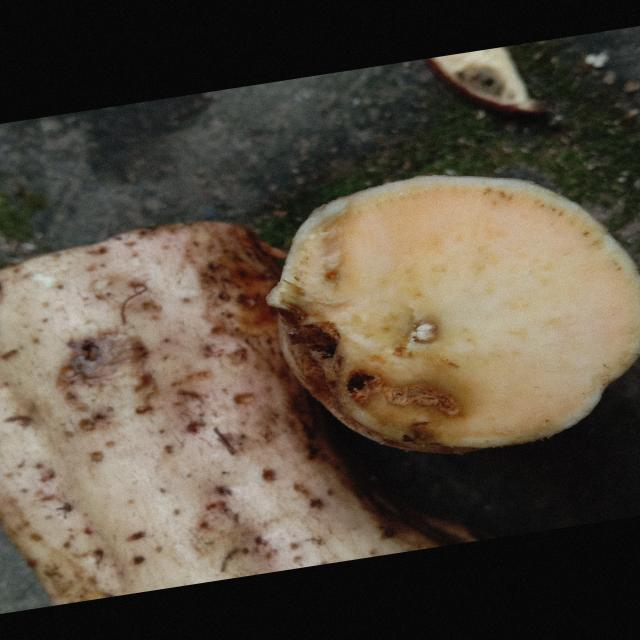Sick Sweet Potato_Tuber Rot: (268, 176, 638, 452)
